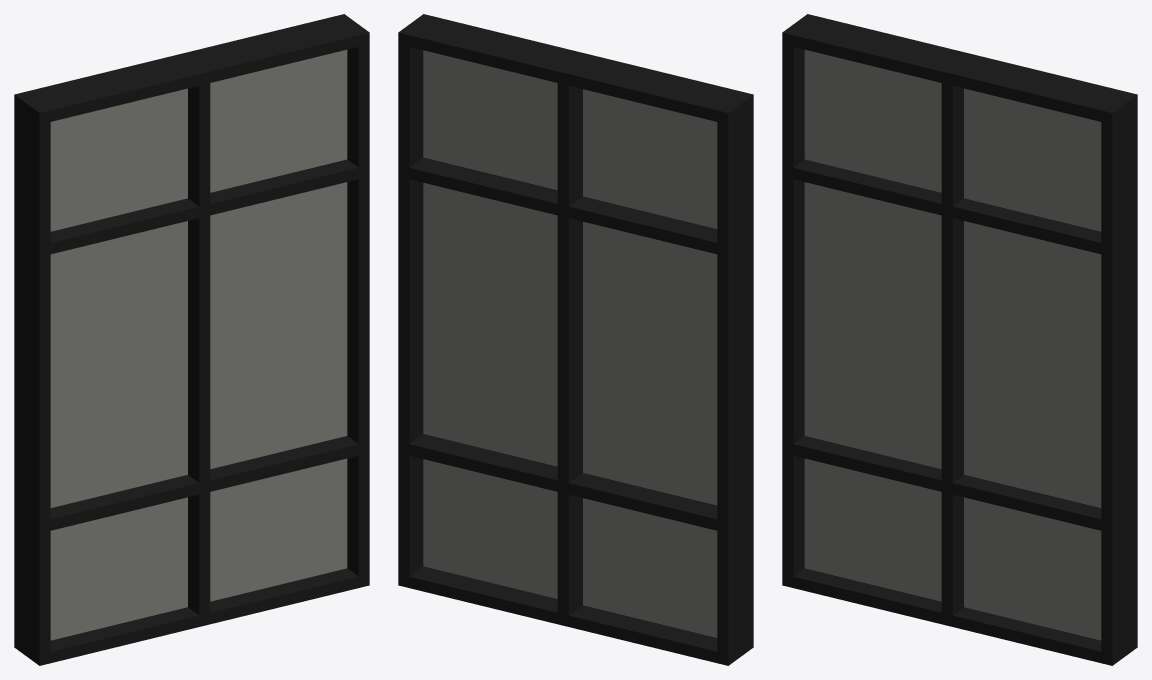
File: LIH0110012.fbx
The picture shows the model from 3 angles, left to right: view 1: azimuth 30°, elevation 25°; view 2: azimuth 150°, elevation 25°; view 3: azimuth 330°, elevation 25°; orthographic projection.
Parts seen in each view (by area): view 1: smLIH0110012; view 2: smLIH0110012; view 3: smLIH0110012.
Part boxes in pixels (bbox=[...]): smLIH0110012: bbox=[14, 14, 369, 665]; smLIH0110012: bbox=[398, 14, 753, 665]; smLIH0110012: bbox=[782, 14, 1137, 665].
Bounding box in the file's own units: 208 × 333 × 27.75.
